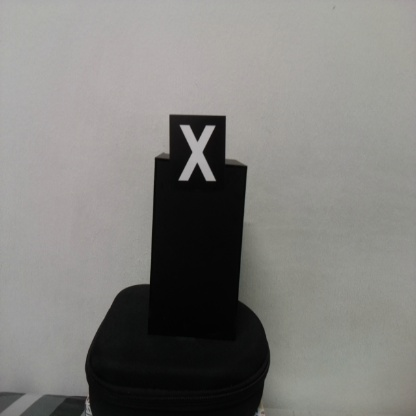id_13: (168, 116, 227, 196)
